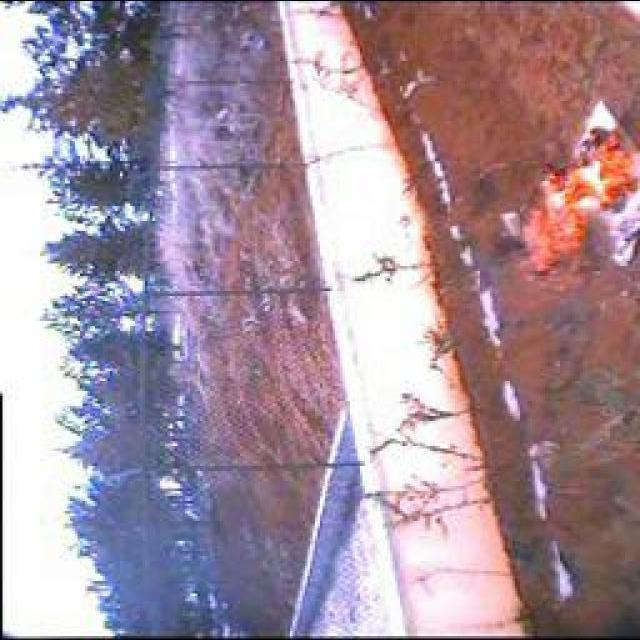Fire: (515, 124, 640, 278)
